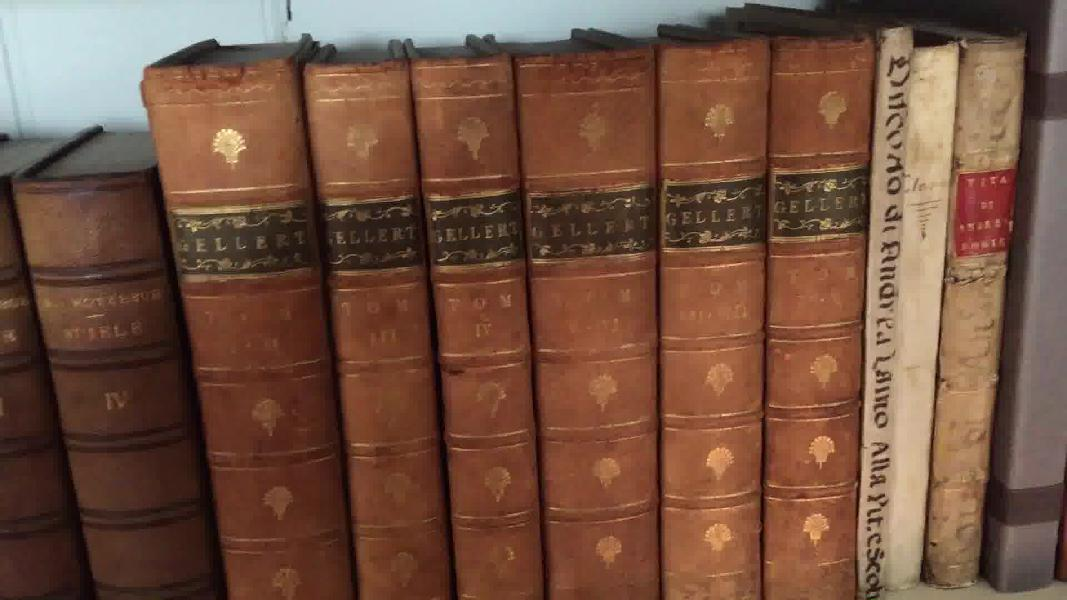Aa6-18_23: (143, 12, 873, 597)
Aa6-24: (855, 2, 921, 600)
Aa6-25: (889, 9, 955, 600)
Aa6-26: (935, 12, 1040, 592)
